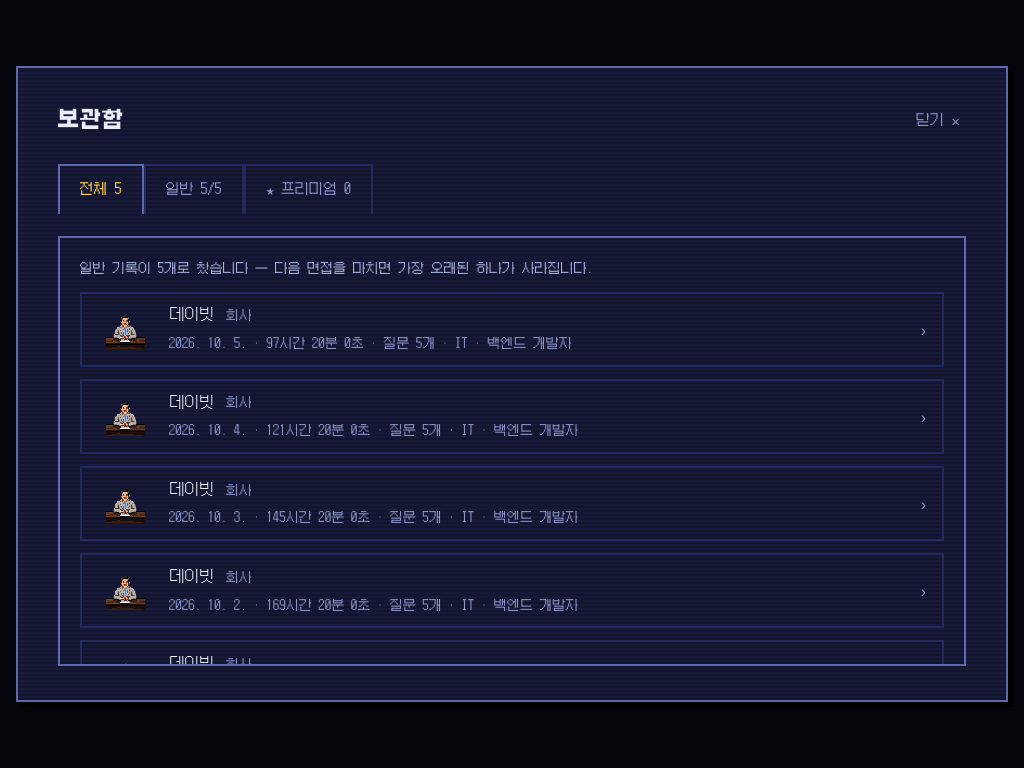
it: ArchiveModal — 한도 경고 자리 › 프리미엄 탭에서는 일반 한도 경고를 꺼내지 않는다
This screenshot has width=1024, height=768.
Click the button with test id "archive-tab" showing "★ 프리미엄 0": x=309, y=189 [244, 164, 373, 214]
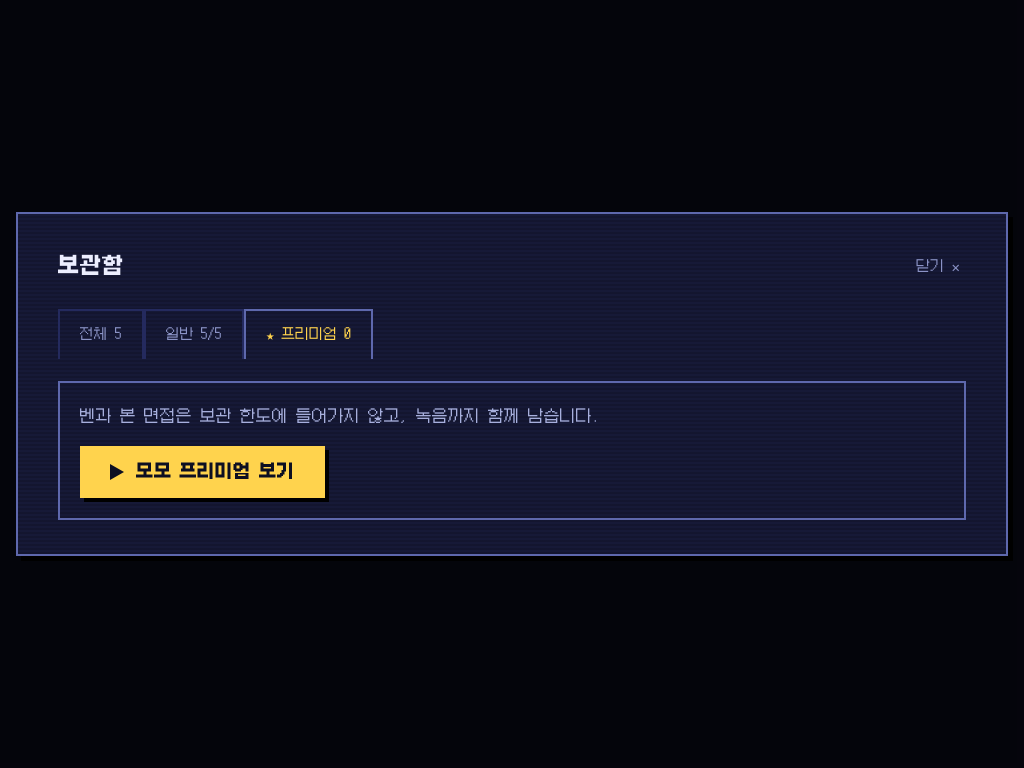
Check: the text with test id "archive-full" is gone
